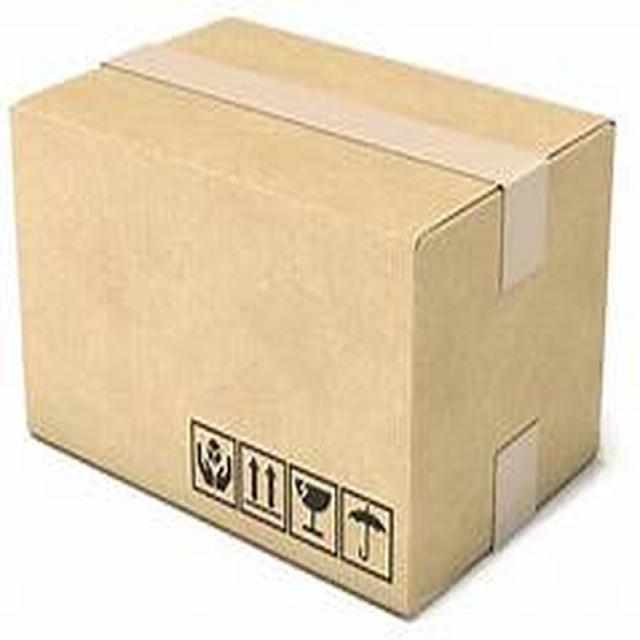box: (19, 23, 607, 574)
